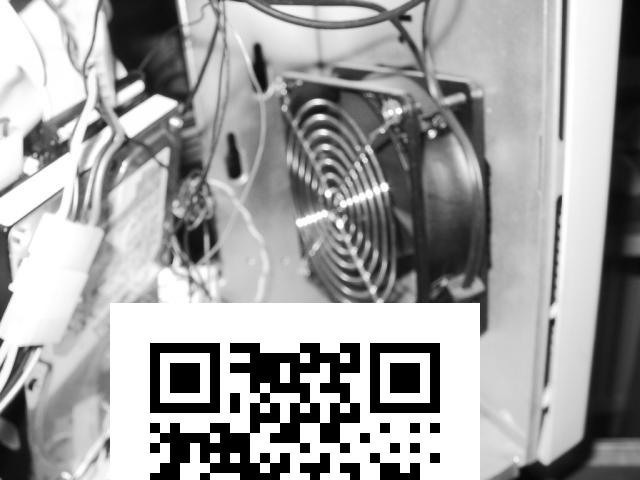qr_code: (111, 304, 479, 480)
